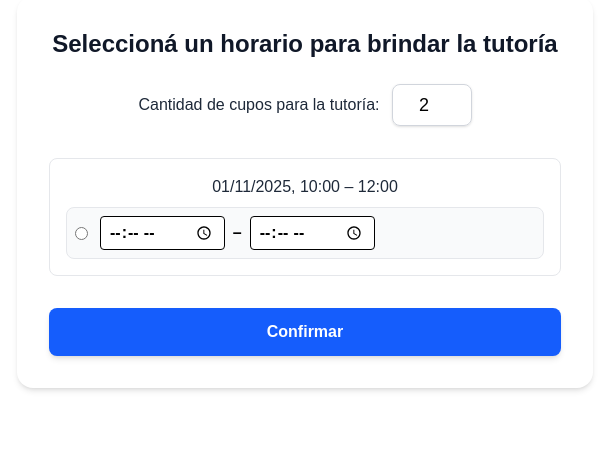
Test: muestra error si la hora de fin es anterior a la de inicio
Click the radio button labelled "01/11/2025, 10:00 – 12:00" at (82, 233), box [75,226,88,240]
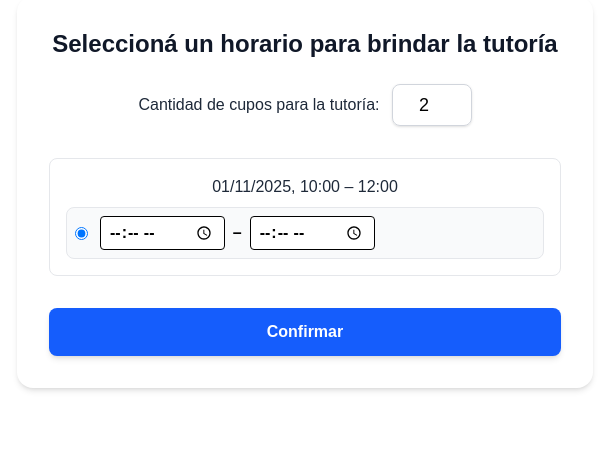
Type "11:30" into the 1st time field with test id "time-input" at (162, 233), box [100,216,225,250]
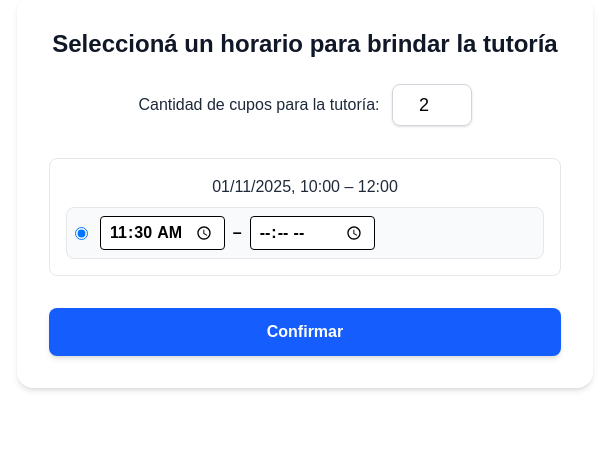
Type "10:30" into the 2nd time field with test id "time-input" at (312, 233), box [250,216,374,250]
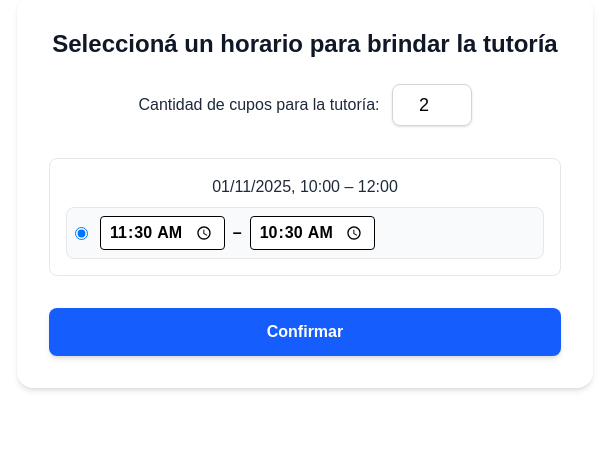
Click the button "Confirmar" at (305, 332), box [49,308,561,356]
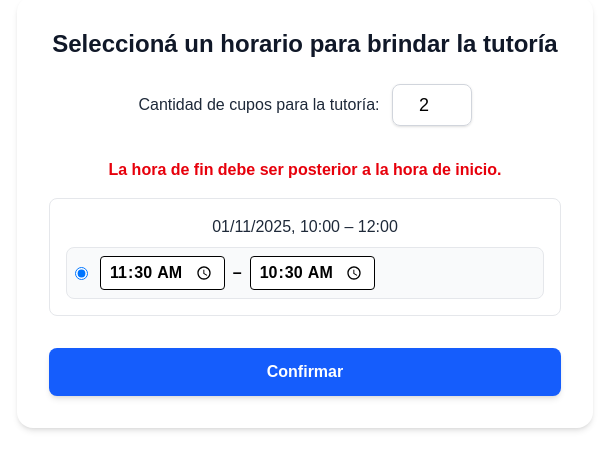
Now the text "La hora de fin debe ser posterior a la hora de inicio." is shown, box [108,161,502,178]
